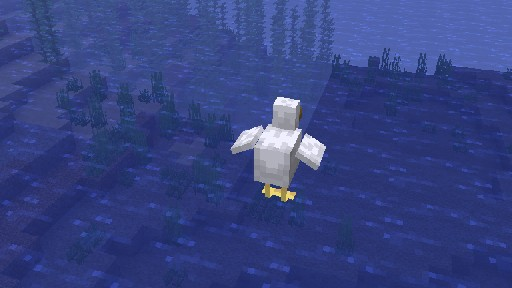chicken: (229, 95, 326, 201)
